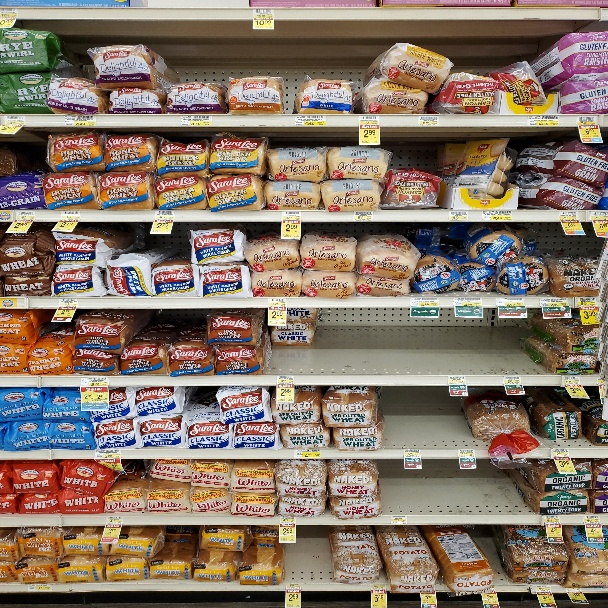All PRICE TAGS: (527, 116, 559, 126), (65, 116, 96, 126), (181, 115, 212, 125), (297, 114, 325, 125), (482, 210, 512, 220), (497, 297, 525, 307), (454, 297, 482, 306), (411, 297, 439, 306), (81, 377, 108, 386), (253, 8, 273, 20), (540, 298, 568, 306), (295, 449, 320, 457), (353, 211, 373, 221), (16, 210, 35, 220), (4, 115, 25, 124), (358, 115, 379, 124), (418, 116, 439, 125), (577, 115, 598, 124), (95, 450, 121, 457), (558, 211, 578, 220), (449, 211, 469, 220), (59, 298, 78, 307), (578, 298, 597, 307), (61, 211, 80, 220), (281, 212, 302, 220), (390, 515, 408, 524), (503, 375, 521, 384), (276, 375, 294, 384), (1, 8, 17, 18), (154, 211, 174, 219), (404, 449, 421, 458), (284, 583, 302, 591), (268, 298, 286, 306), (564, 376, 580, 385), (106, 516, 123, 524), (458, 449, 475, 457), (449, 376, 466, 384), (591, 212, 608, 220), (553, 449, 568, 458), (280, 516, 296, 524), (370, 583, 385, 591), (585, 516, 599, 524), (545, 516, 559, 523), (536, 586, 552, 592), (566, 588, 581, 592)
